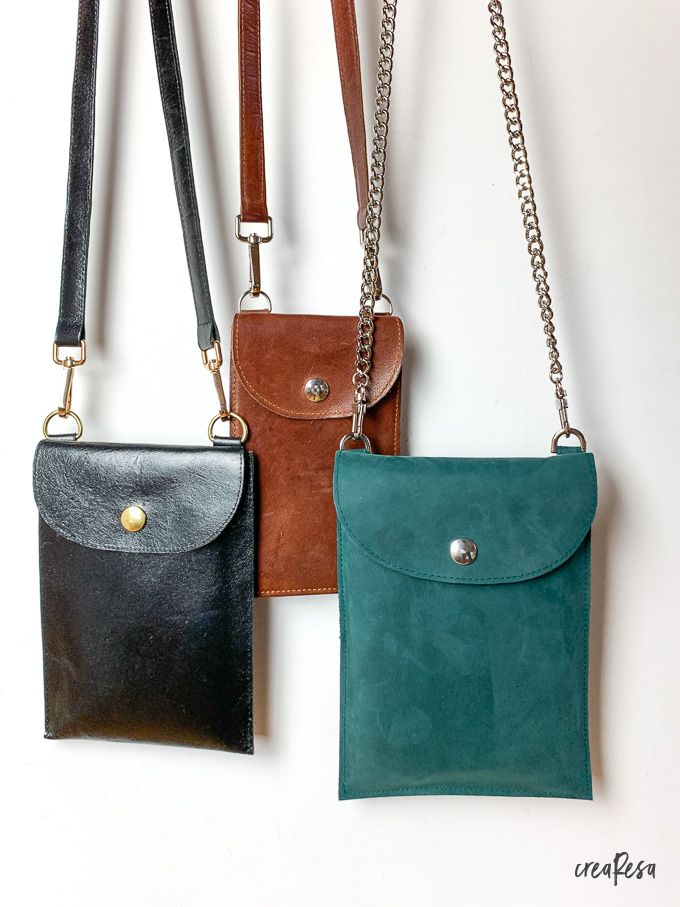cuero: (33, 1, 333, 753)
